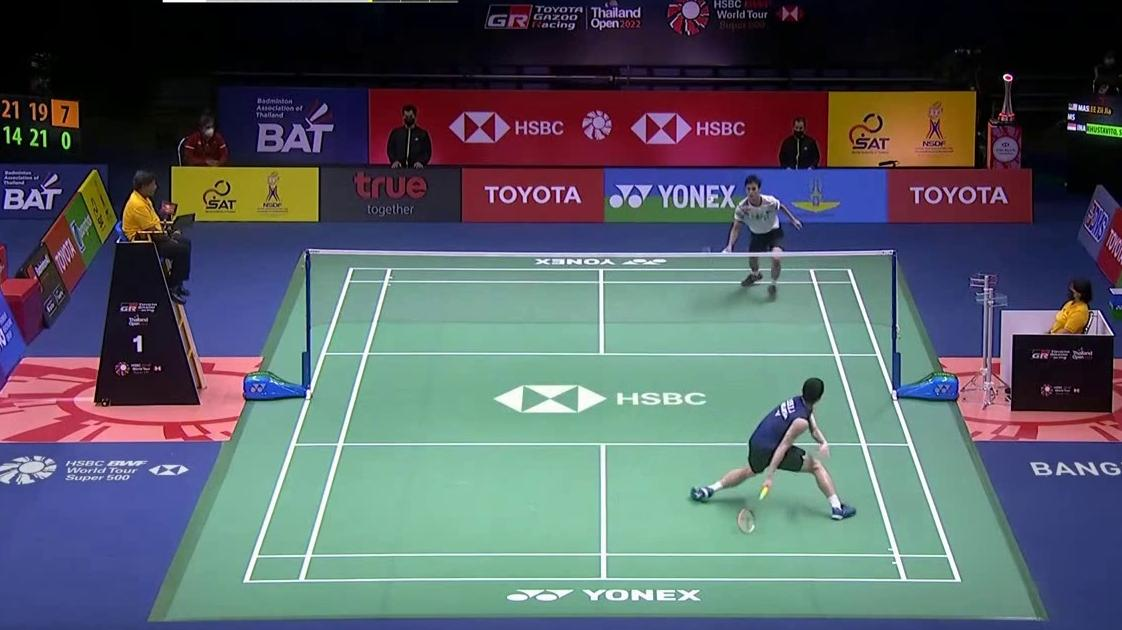racket: (736, 480, 770, 536), (695, 244, 734, 266)
shuttle: (706, 195, 714, 204)
